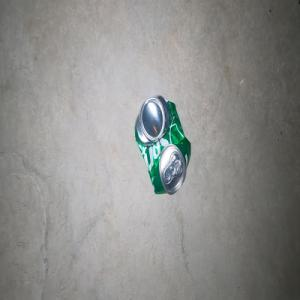SodaCan: (134, 94, 190, 194)
